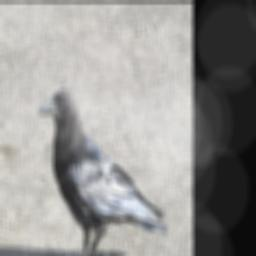Crow: (37, 86, 169, 256)
